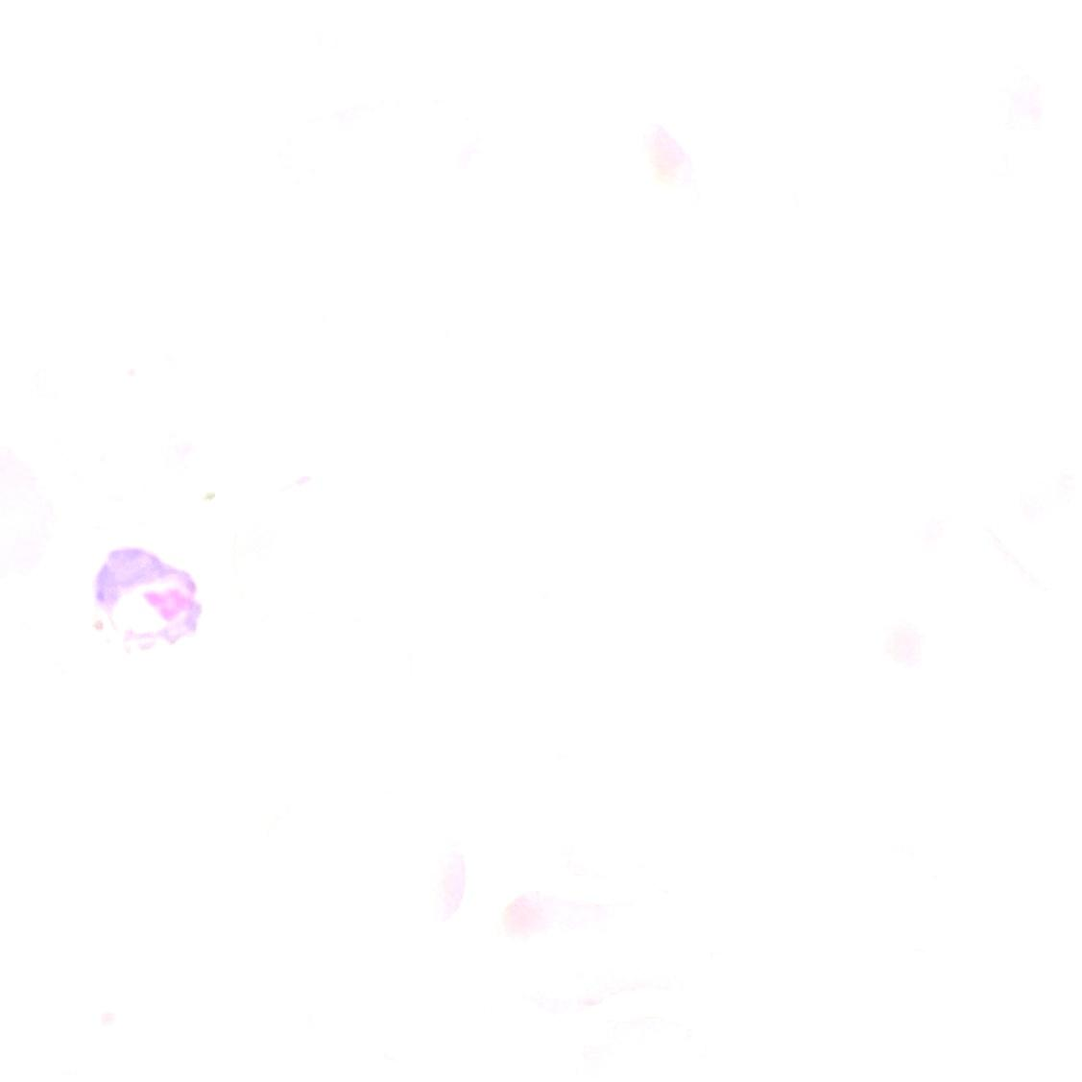Infected: (74, 532, 221, 680)
